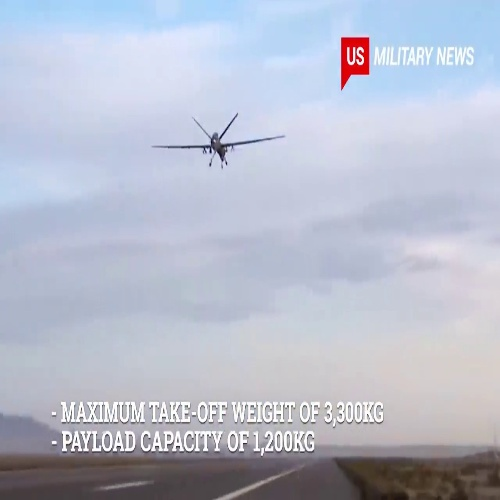uav: (153, 109, 286, 170)
